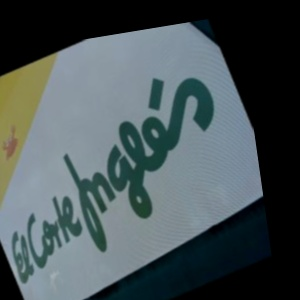corte_ingles: (42, 120, 254, 168)
